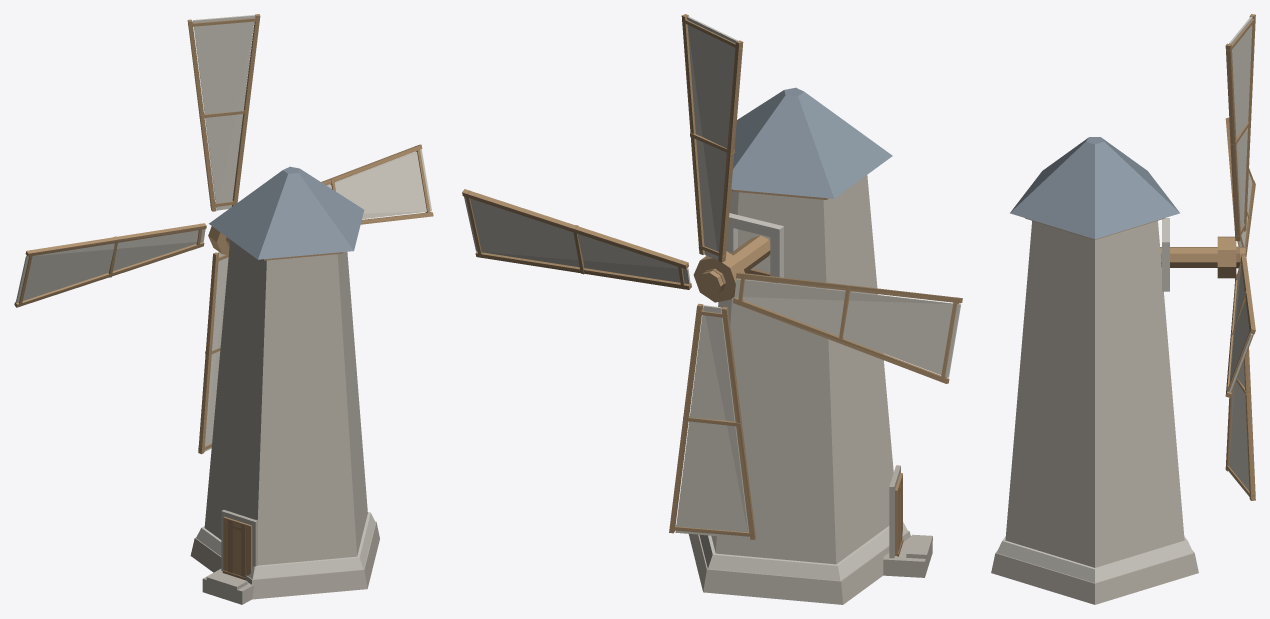
3 views of the same model, side by side, from view 1: azimuth 30°, elevation 25°; view 2: azimuth 150°, elevation 25°; view 3: azimuth 270°, elevation 25° (orthographic). The views are drawn at different scales.
Parts seen in each view (by area): view 1: Body, RotorPivot; view 2: Body, RotorPivot; view 3: Body, RotorPivot.
Part boxes in pixels (box(x1,y1,x2,y2)): Body: box(190, 166, 379, 604); RotorPivot: box(14, 14, 433, 454); Body: box(688, 87, 932, 604); RotorPivot: box(462, 14, 962, 539); Body: box(991, 137, 1245, 604); RotorPivot: box(1225, 14, 1255, 500).
Size of the model in its own units: 11.3 by 13.13 by 5.96.
